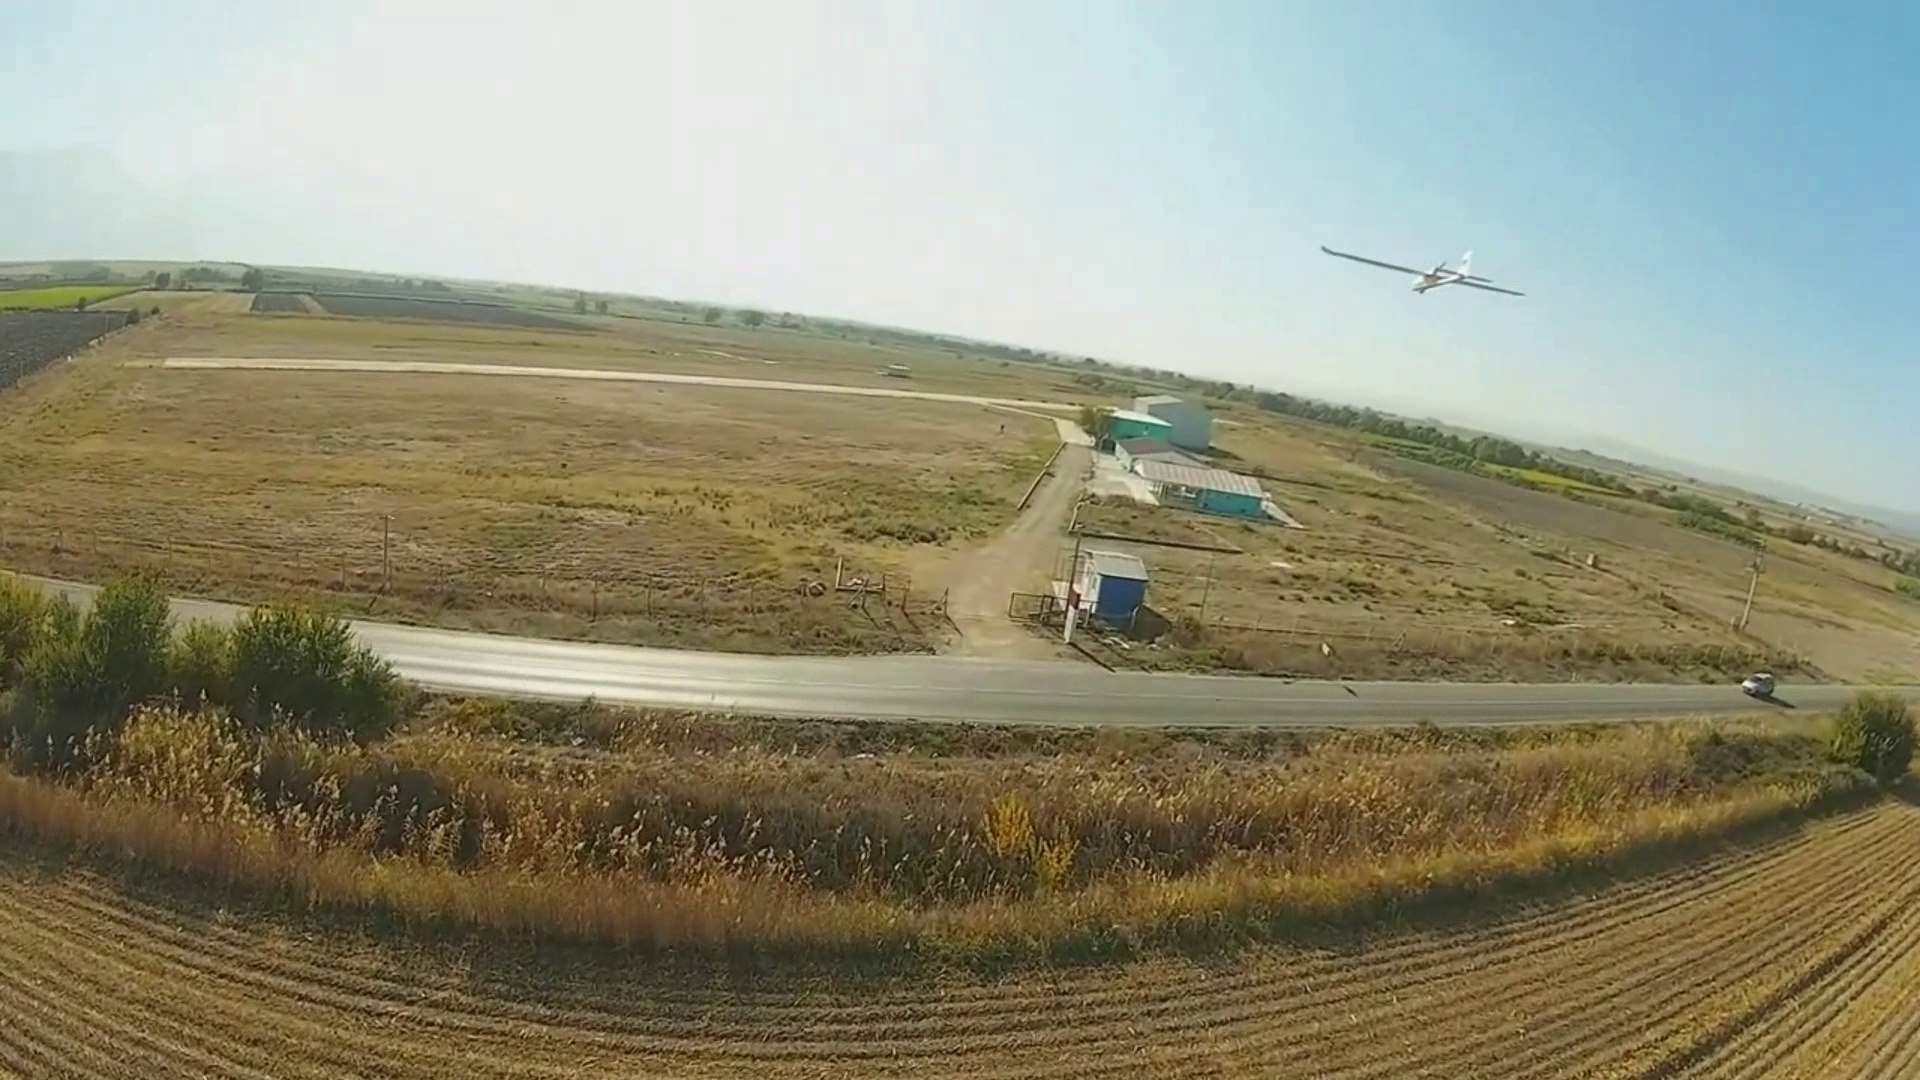airplane: (1319, 242, 1526, 300), (1395, 252, 1526, 299)
